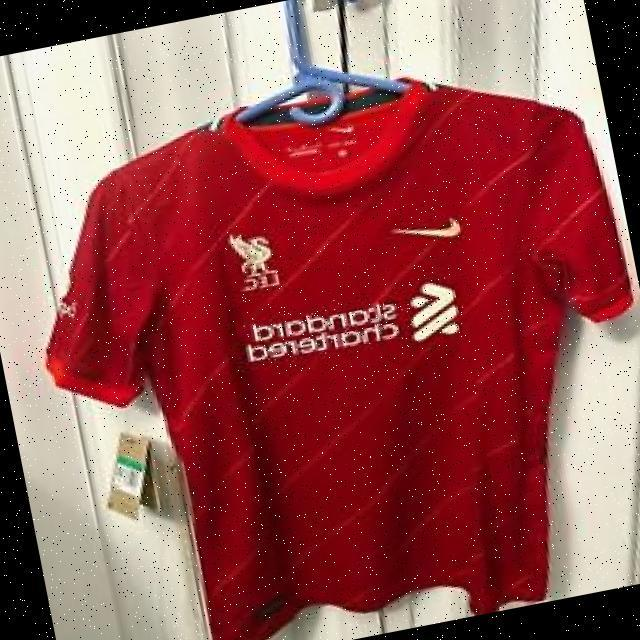Nike: (388, 210, 461, 248)
Standard Chartered: (236, 274, 472, 371)
